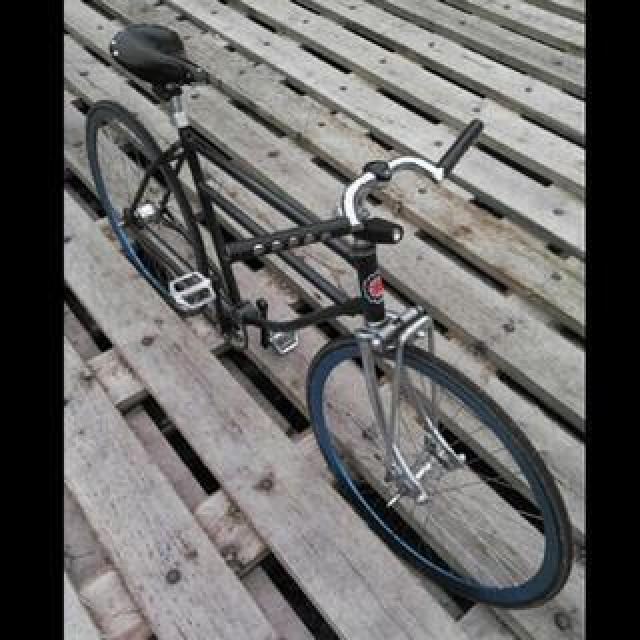Person: (84, 0, 566, 634)
